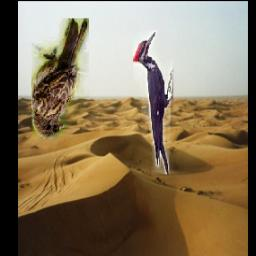Sparrow: (31, 18, 89, 139)
Woodpecker: (132, 30, 172, 174)
